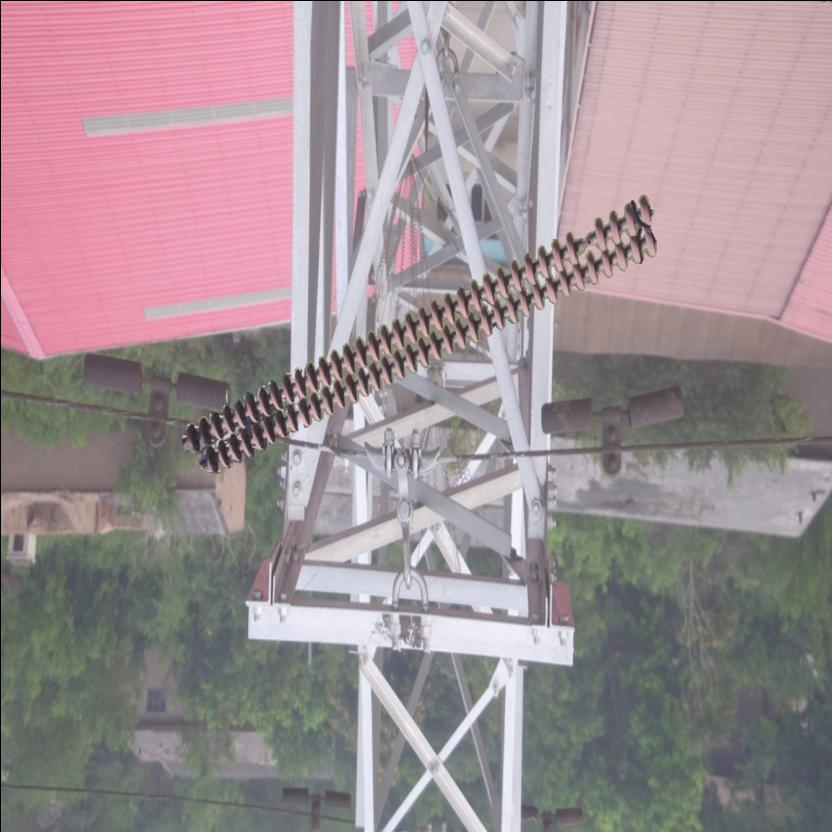defect: (562, 214, 606, 272)
